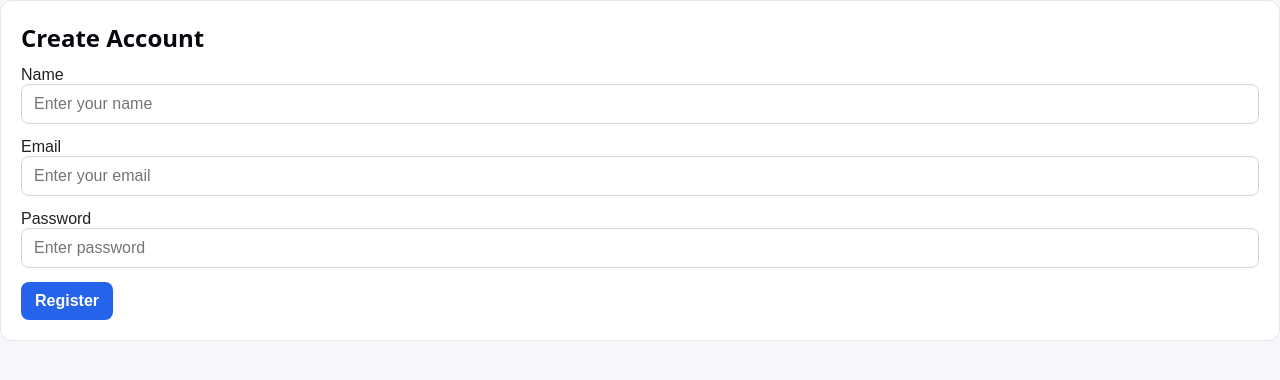
Scenario: RegisterForm › shows validation error when email is empty
This screenshot has width=1280, height=380.
In the field labelled "Name": [640, 104] box [21,84,1259,124], type "Prem"
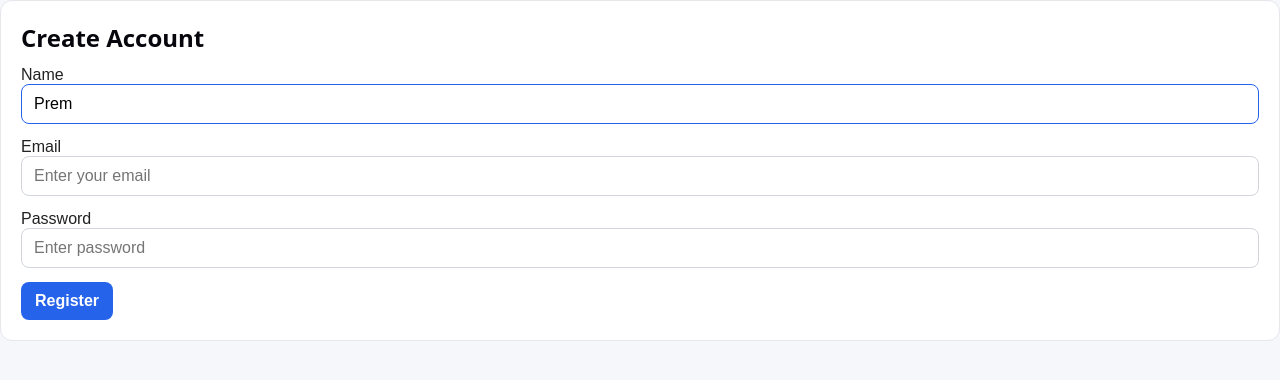
In the password field labelled "Password": [640, 248] box [21,228,1259,268], type "password123"
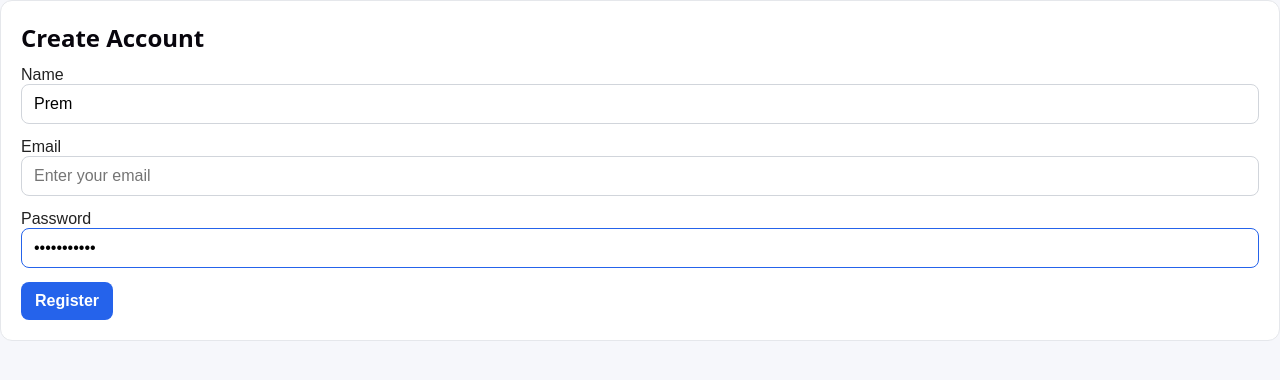
Click the button "Register": [67, 301] box [21,282,113,320]
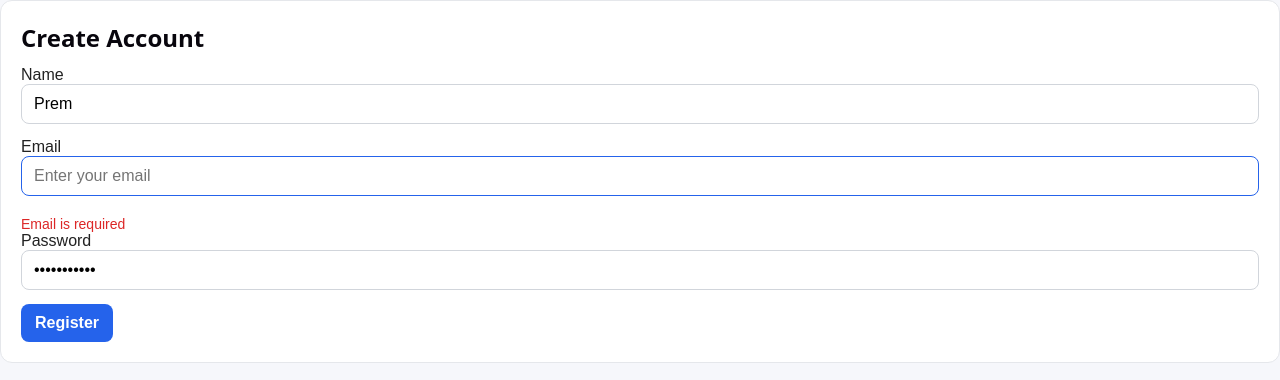
Check: the text "Email is required" is shown, box [21,216,125,232]
